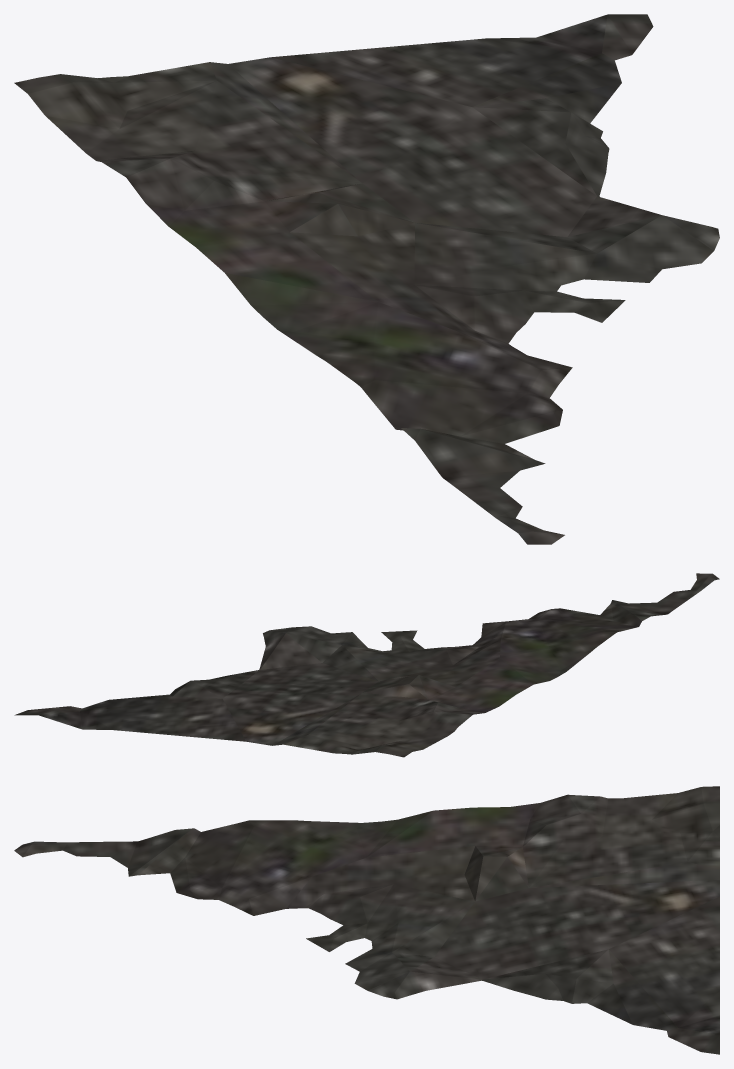
3 renders of one model, top to bottom at view 1: azimuth 30°, elevation 25°; view 2: azimuth 150°, elevation 25°; view 3: azimuth 270°, elevation 25°, orthographic. The views are drawn at different scales.
Size of the model in its own units: 0.3855 by 0.05 by 0.5475.
Materials: 1 (1 with a texture image).
